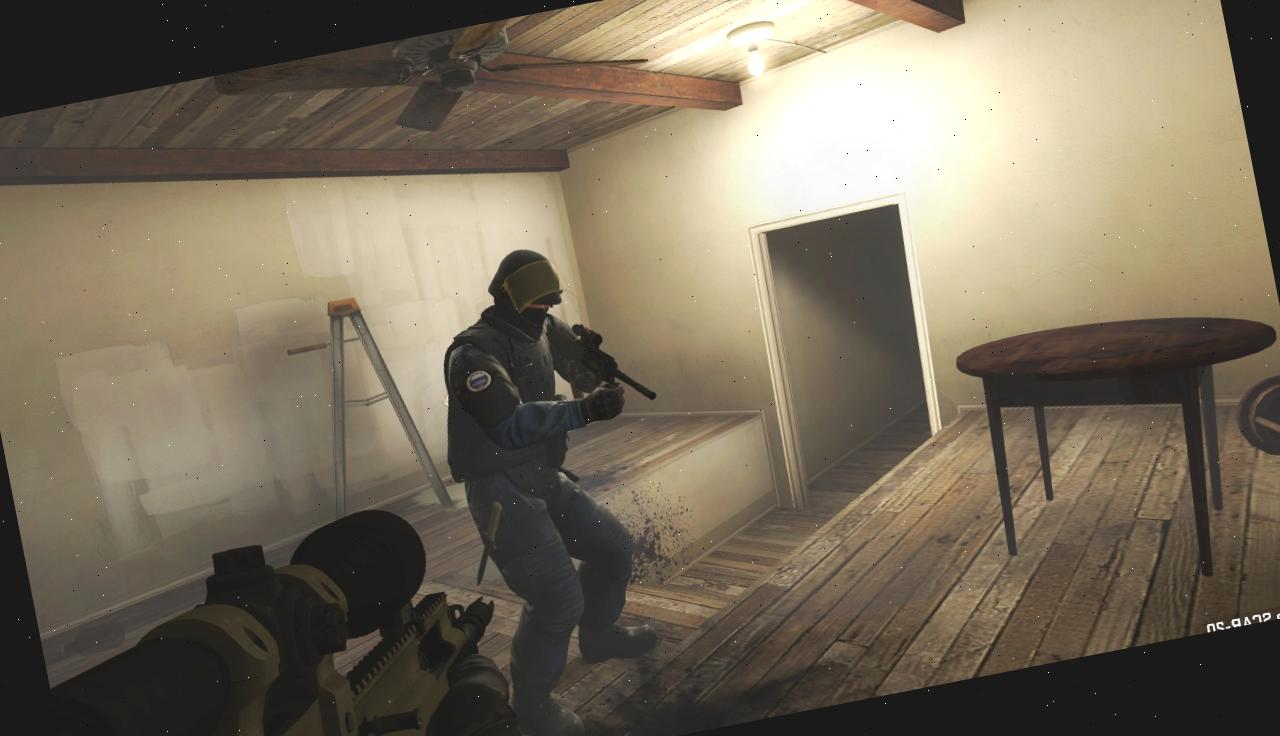ct: (424, 238, 666, 736)
cthead: (482, 242, 566, 329)
sniper: (28, 487, 518, 736)
